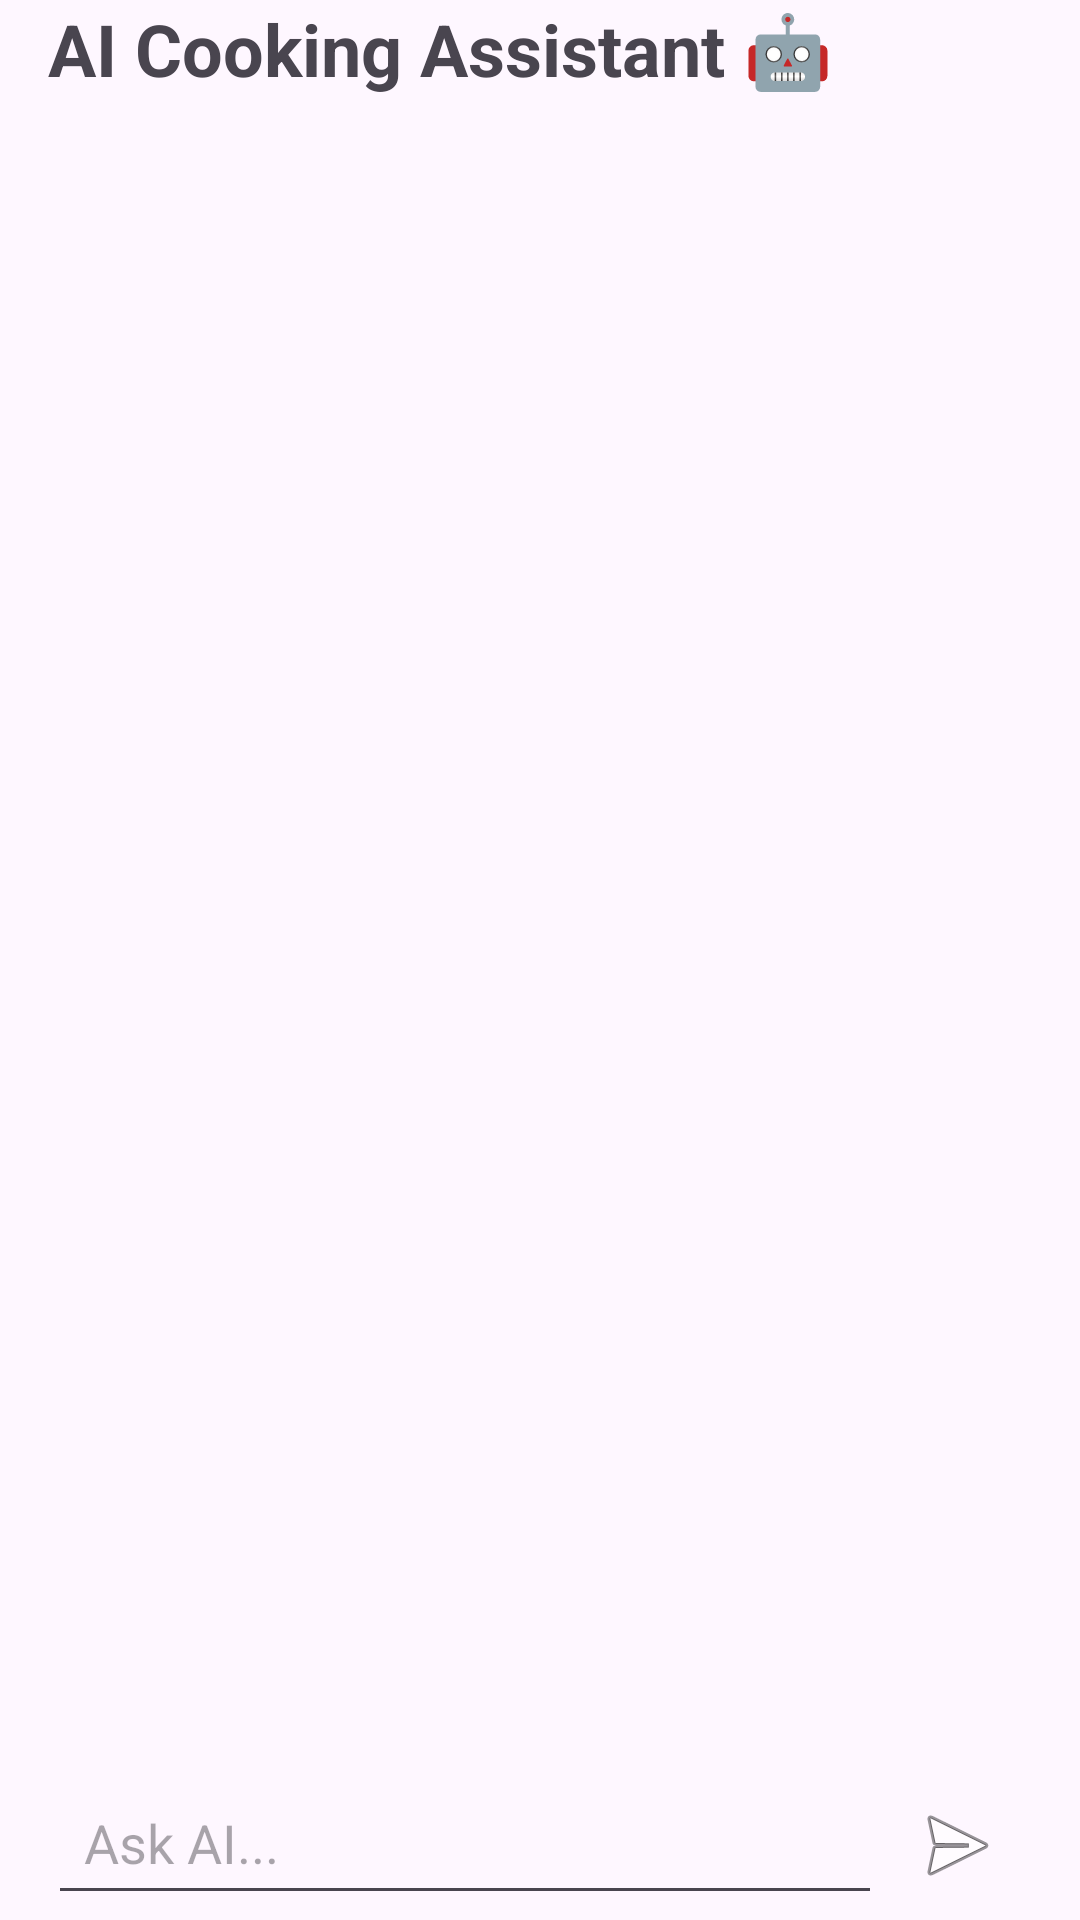

Point at icon controls on the screen. Image size 1080x1920, points as (x=x, y=y).
send: (x=958, y=1845)
